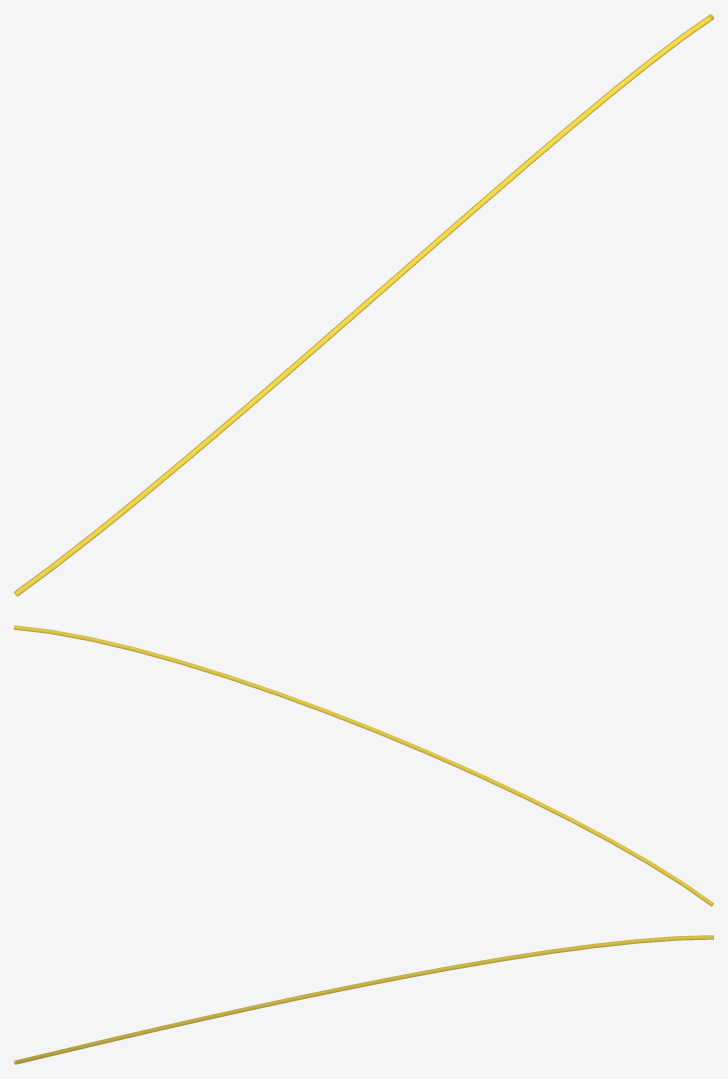
File: Event_17758602_track_0.fbx
The picture shows the model from 3 angles, top to bottom: view 1: azimuth 30°, elevation 25°; view 2: azimuth 150°, elevation 25°; view 3: azimuth 330°, elevation 25°; orthographic projection. The views are drawn at different scales.
Parts seen in each view (by area): view 1: Model; view 2: Model; view 3: Model.
Boxes of the visible parts, x1,y1,x2,y2 form: Model: (14,14,713,596); Model: (14,625,713,906); Model: (14,935,713,1064).
Bounding box in the file's own units: 6.22 × 2.02 × 1.76.
